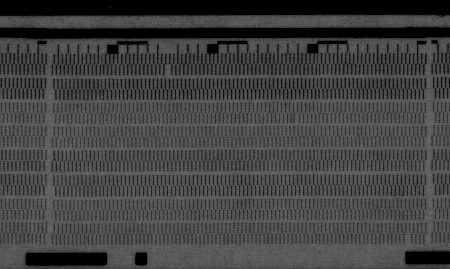Broken hole: (161, 65, 173, 78), (402, 232, 413, 245)
Oblique printing: (290, 113, 302, 127)
